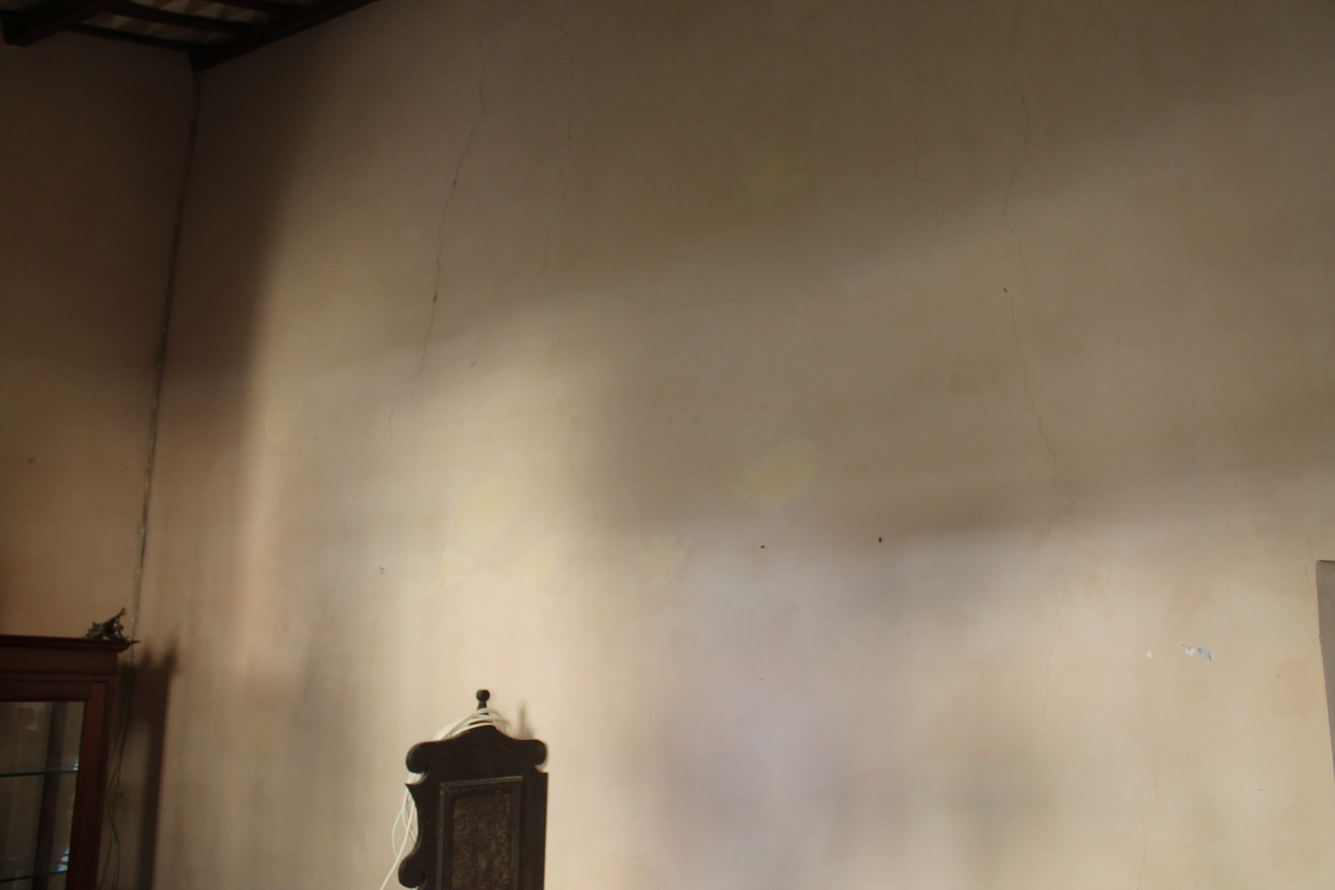Crack: (363, 10, 1110, 819)
